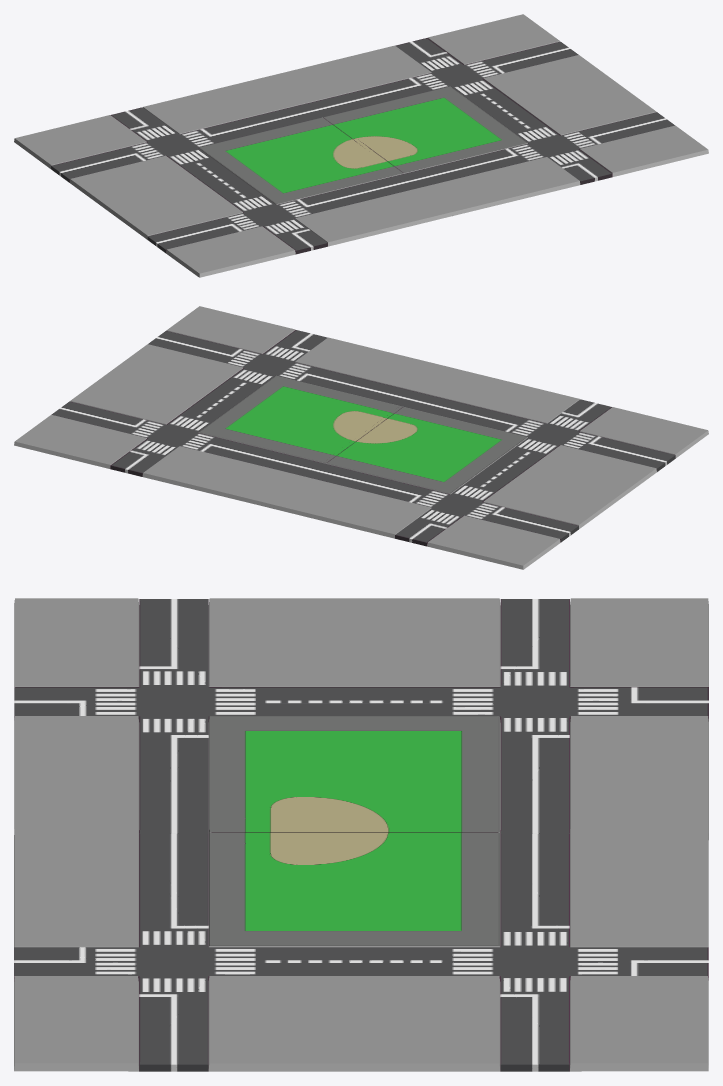
The model's file is map2.fbx.
3 renders of one model, top to bottom at view 1: azimuth 30°, elevation 25°; view 2: azimuth 150°, elevation 25°; view 3: azimuth 270°, elevation 25°, orthographic. The views are drawn at different scales.
Visible parts, largest first — view 1: pPlane4, pPlane3; view 2: pPlane4, pPlane3; view 3: pPlane3, pPlane4.
Part boxes in pixels (<box>): pPlane4: <box>14,76,451,277</box>; pPlane3: <box>268,14,708,216</box>; pPlane4: <box>266,368,708,569</box>; pPlane3: <box>14,306,455,506</box>; pPlane3: <box>14,829,708,1071</box>; pPlane4: <box>14,598,708,839</box>.
Size of the model in its own units: 793 by 6.11 by 500.
4 materials, 2 textured.
